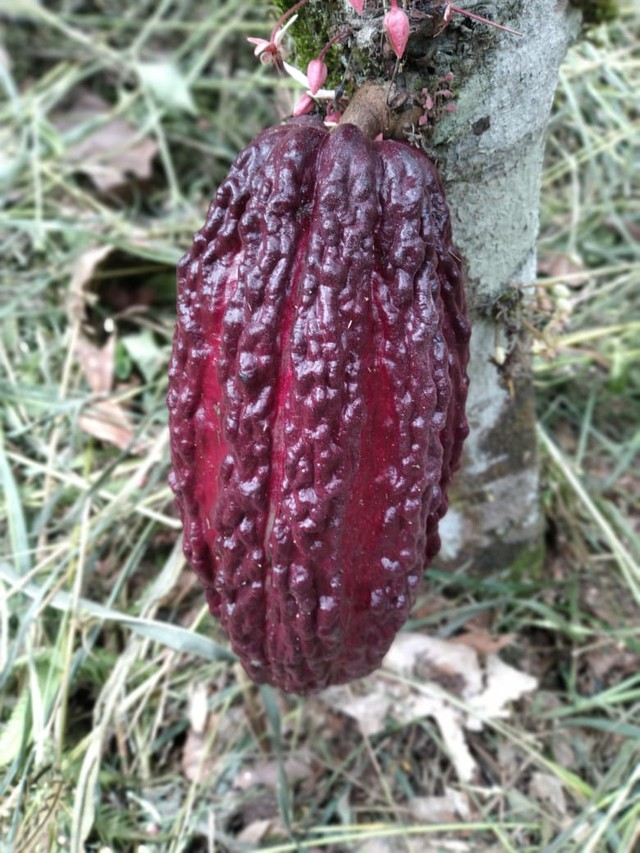Health: (160, 103, 478, 696)
